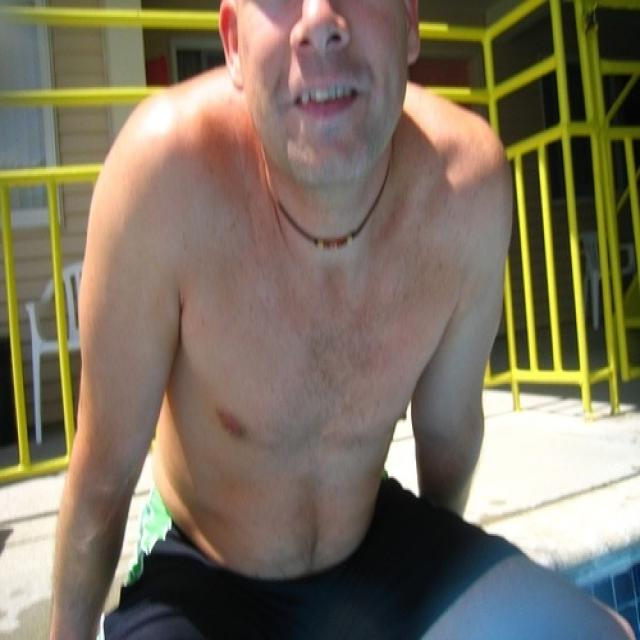piel: (47, 0, 509, 638), (413, 553, 639, 638)
